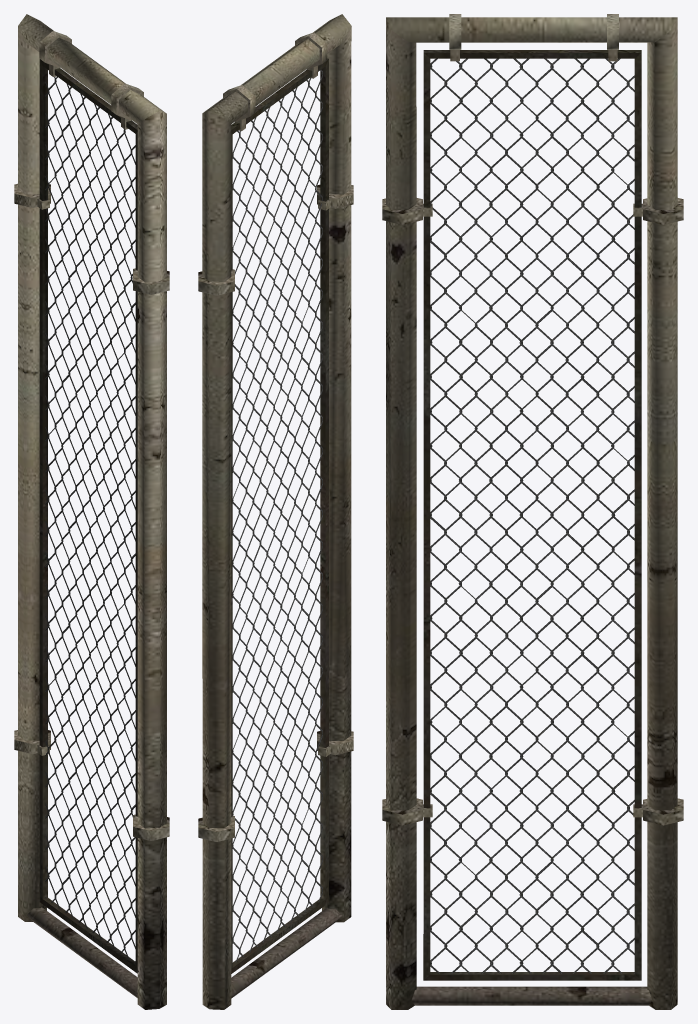
The model's file is interior_fence003a.glb.
3 views of the same model, side by side, from view 1: azimuth 30°, elevation 25°; view 2: azimuth 150°, elevation 25°; view 3: azimuth 270°, elevation 25° (orthographic). The views are drawn at different scales.
Visible parts, largest first — view 1: 0_prison_yard001, 1_fence_alpha; view 2: 0_prison_yard001, 1_fence_alpha; view 3: 0_prison_yard001, 1_fence_alpha.
Part boxes in pixels (<box>): 0_prison_yard001: <box>14,14,169,1009</box>; 1_fence_alpha: <box>45,76,135,963</box>; 0_prison_yard001: <box>198,14,353,1009</box>; 1_fence_alpha: <box>232,69,322,962</box>; 0_prison_yard001: <box>382,14,683,1009</box>; 1_fence_alpha: <box>430,58,634,973</box>.
Bounding box in the file's own units: 0.1313 × 3.06 × 0.8435.
2 materials, 2 textured.
